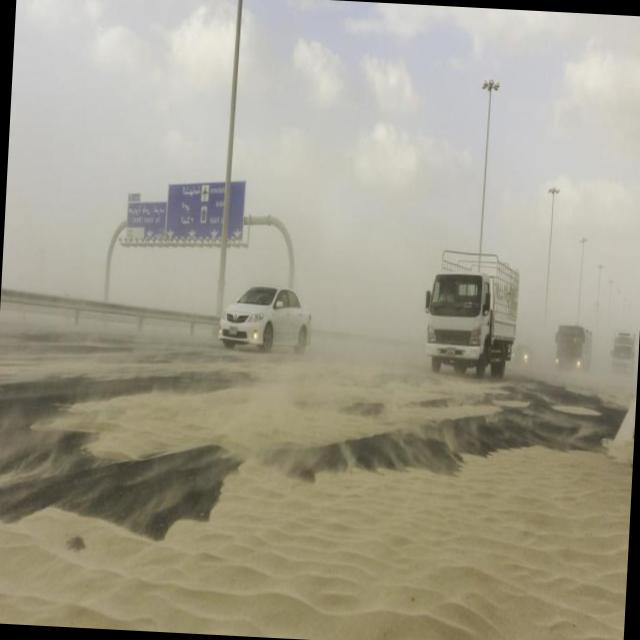car: (218, 281, 313, 355), (511, 341, 534, 365)
